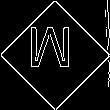M_S: (32, 30, 78, 80)
